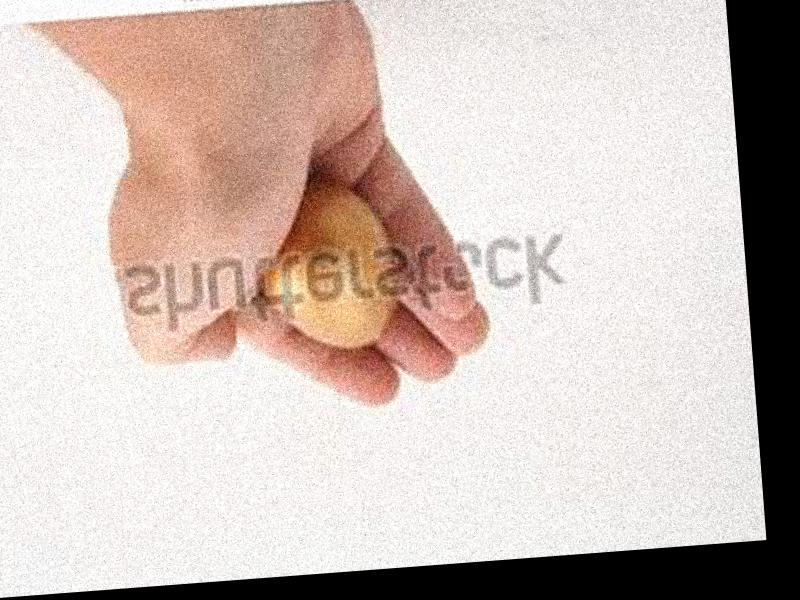Eggs: (261, 180, 398, 352)
